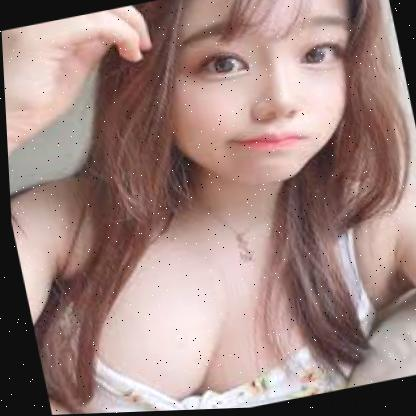person: (131, 0, 404, 197)
